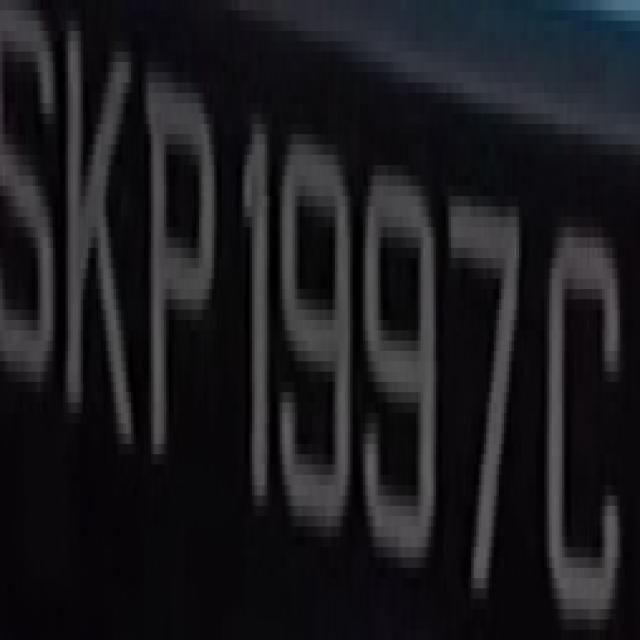1: (240, 93, 270, 547)
7: (454, 124, 529, 640)
9: (353, 103, 451, 578), (274, 82, 352, 568)
C: (549, 196, 625, 640)
K: (60, 21, 126, 444)
P: (144, 72, 216, 475)
S: (8, 41, 56, 403)
